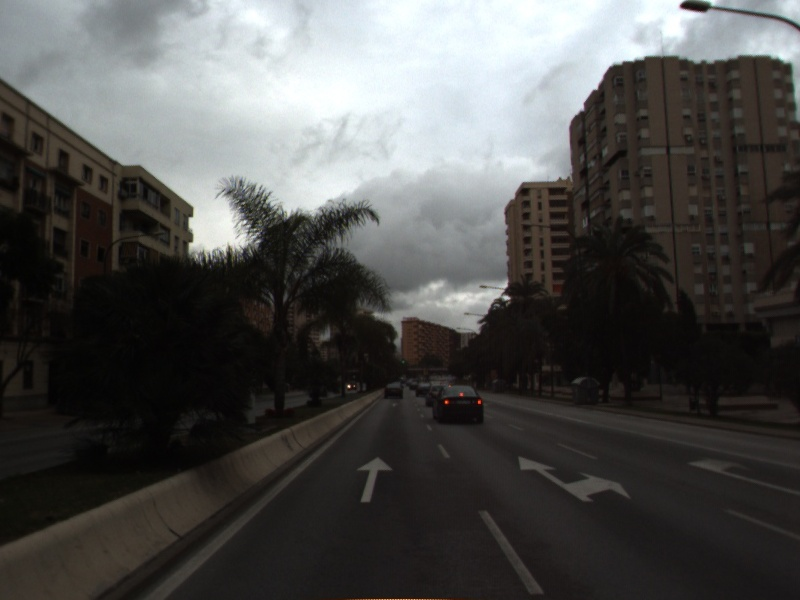RIGHT: (686, 454, 800, 496)
STRAIGHT: (354, 454, 395, 504)
STRAIGHT_RIGHT: (516, 454, 632, 504)
